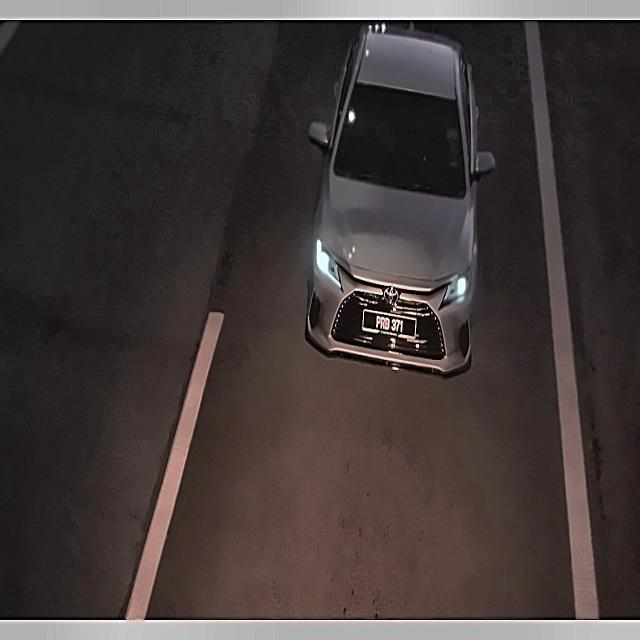car: (363, 307, 416, 345)
